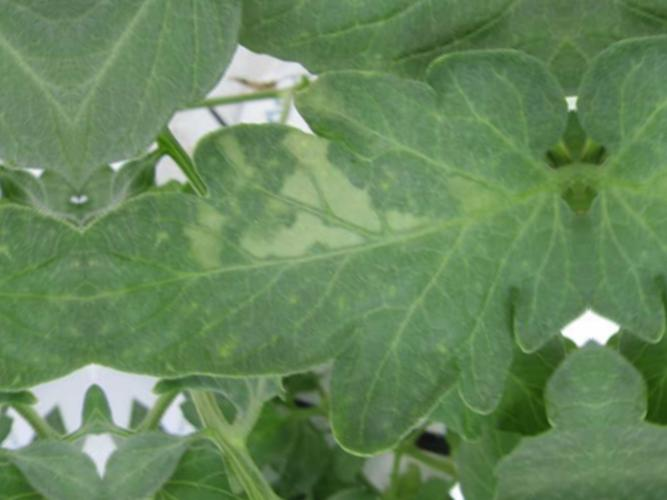Tomato leaf bacterial spot: (71, 40, 582, 475)
